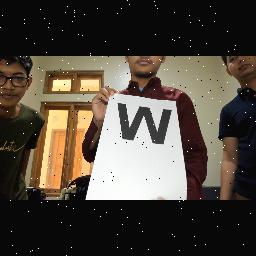w: (111, 100, 177, 148)
